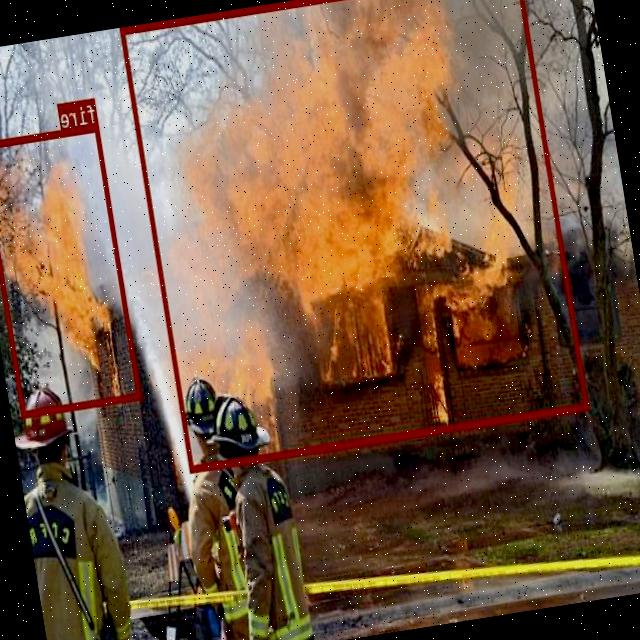fire: (121, 0, 590, 470), (0, 122, 143, 418)
